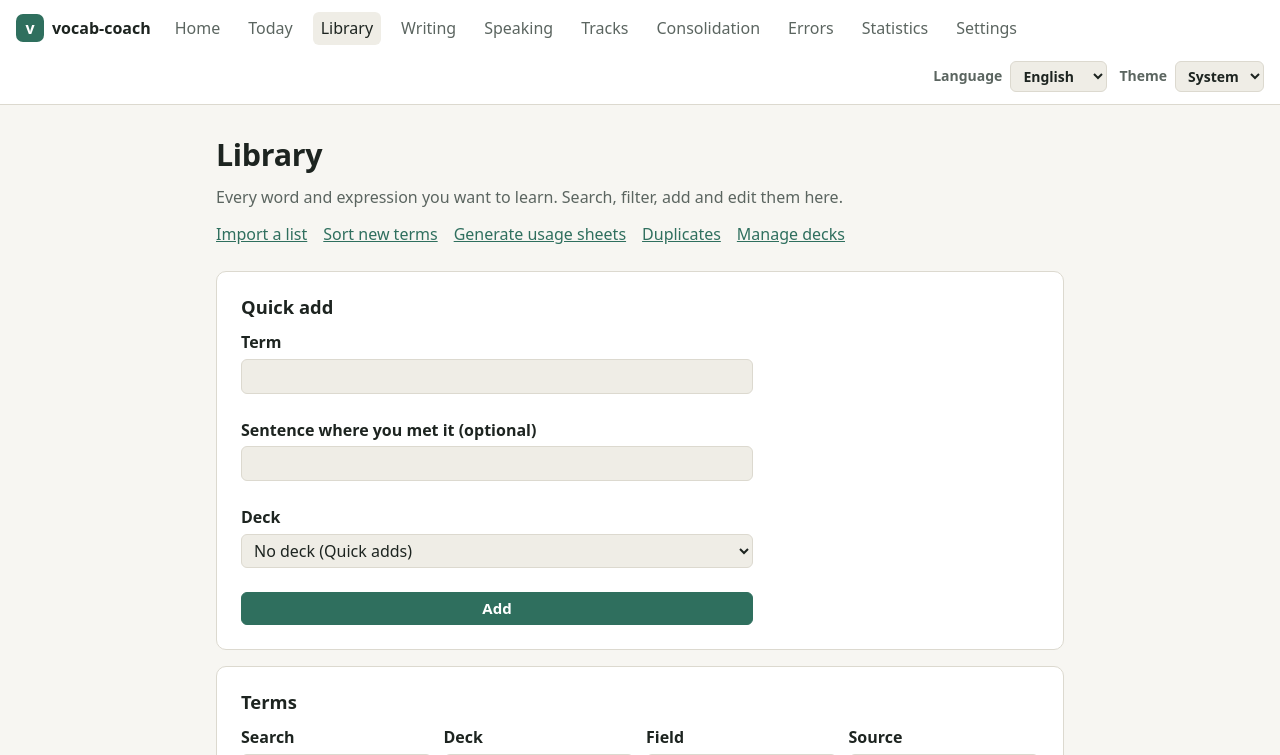
Scenario: library page › quick add: a possible duplicate lets the user attach it or add a new term
The width and height of the screenshot is (1280, 755).
Type "estimates" into the field labelled "Term" at (497, 376), box [241, 359, 753, 394]
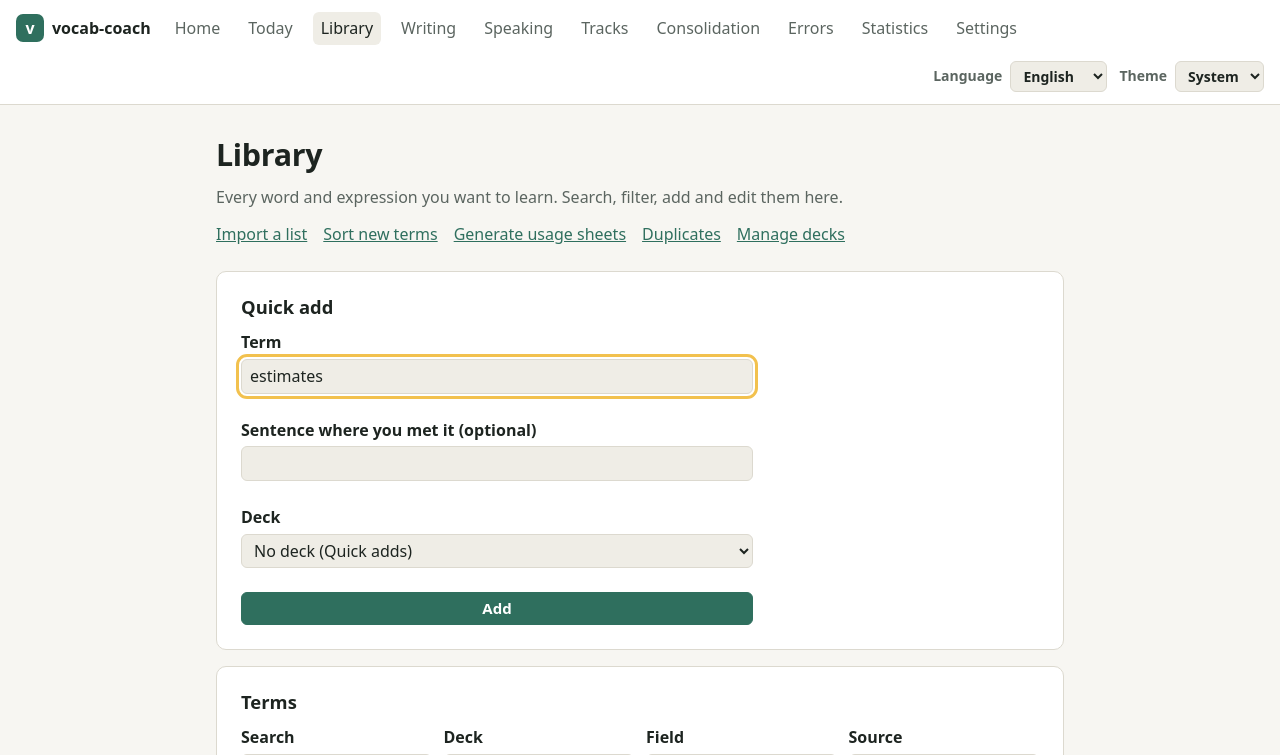
Click the button "Add" at (497, 609), box [241, 592, 753, 625]
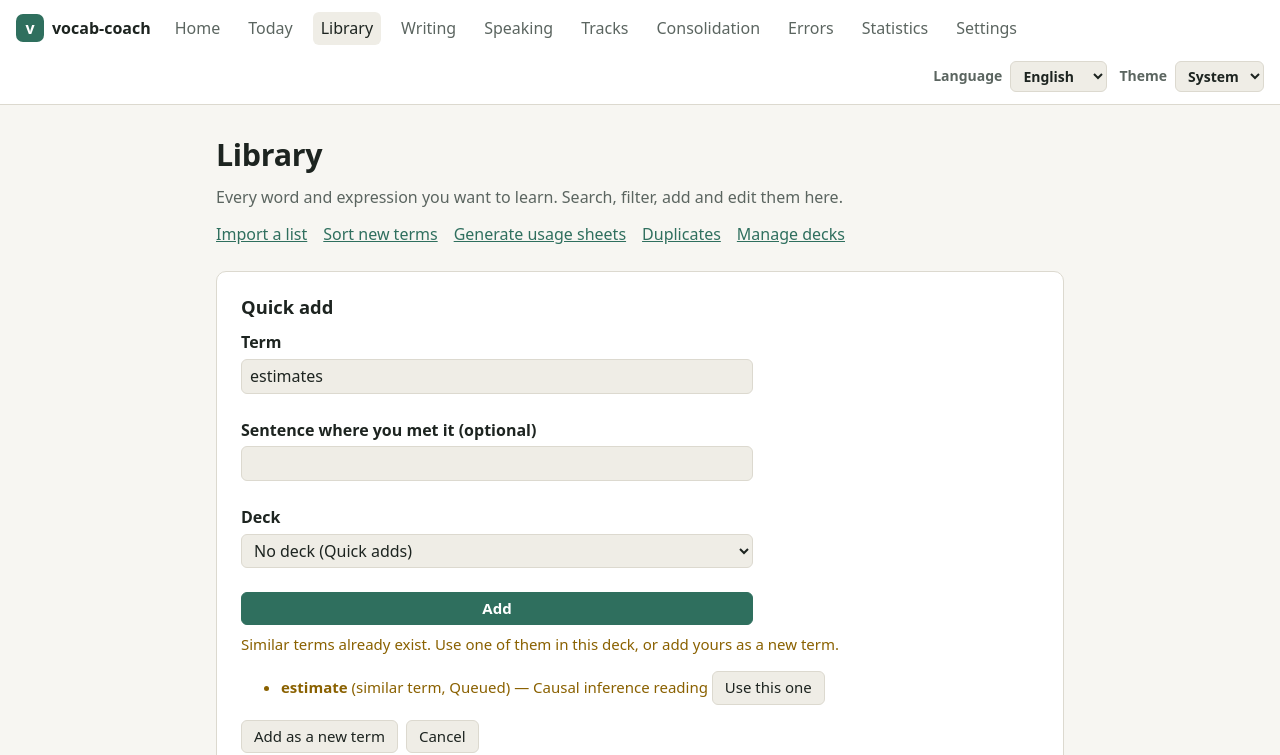
Expected: the text "Similar terms already exist" is shown, [241, 634, 839, 654]
Click the button "Use this one" at (768, 688), box [712, 671, 825, 705]
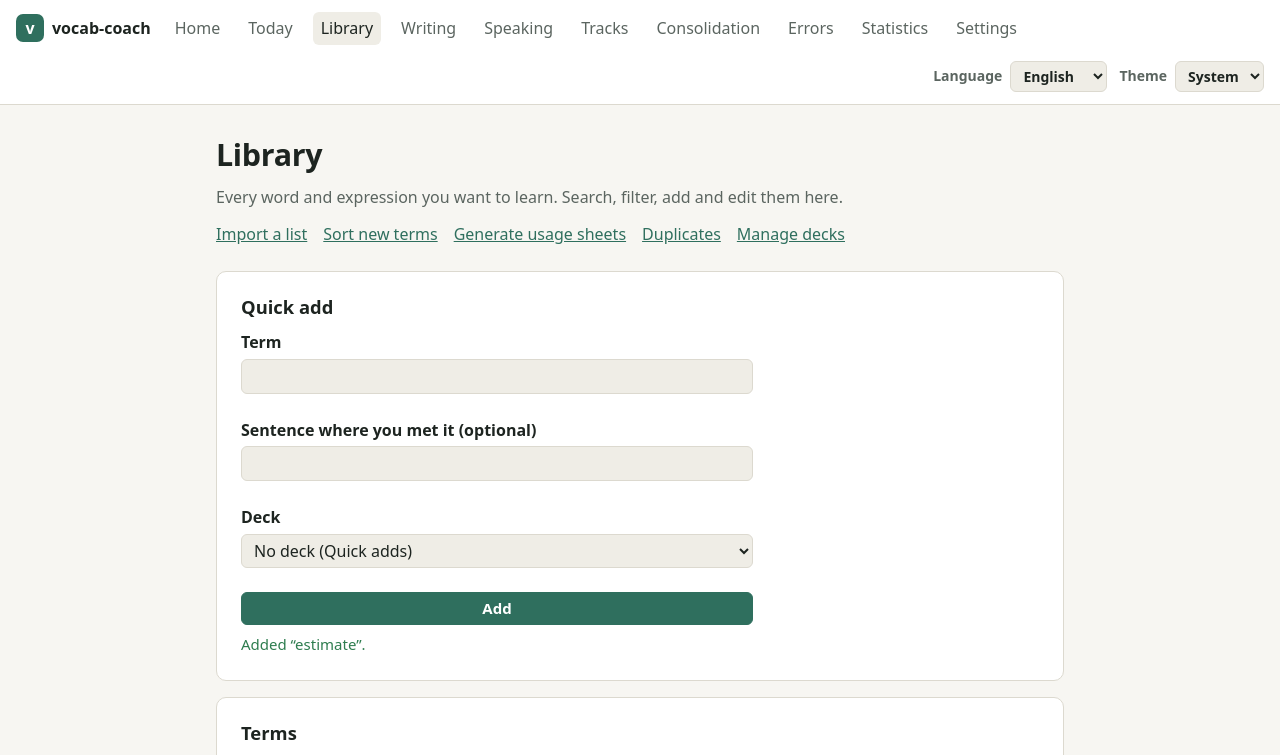
Expected: the text "Added “estimate”." is shown, [241, 634, 366, 654]
